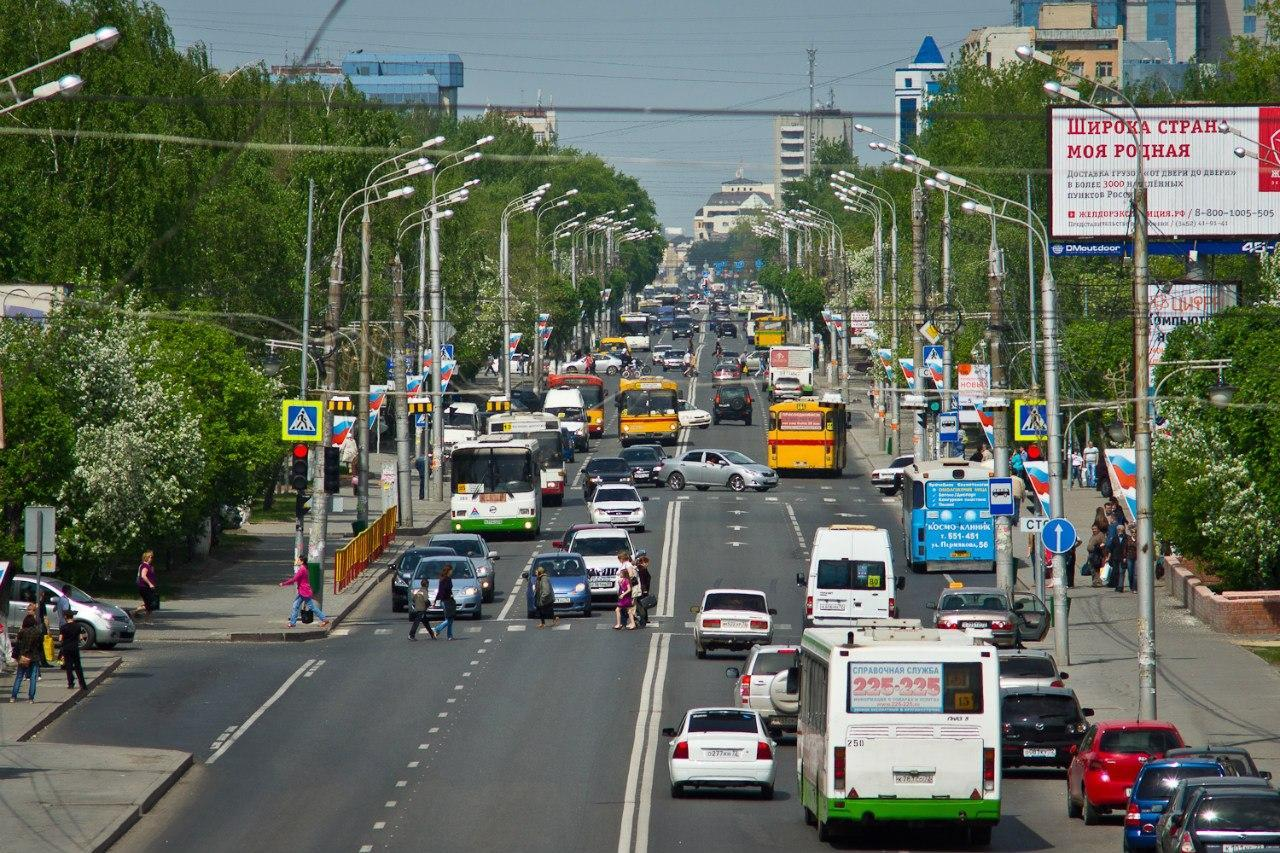sign: (276, 394, 328, 446), (1012, 396, 1050, 442), (1037, 514, 1079, 555), (988, 476, 1017, 518), (937, 411, 961, 444), (1018, 513, 1053, 535), (917, 317, 943, 345), (922, 344, 945, 370), (435, 342, 455, 363), (416, 411, 434, 429), (754, 257, 765, 268), (714, 260, 725, 270), (733, 259, 742, 269), (701, 270, 710, 278)
